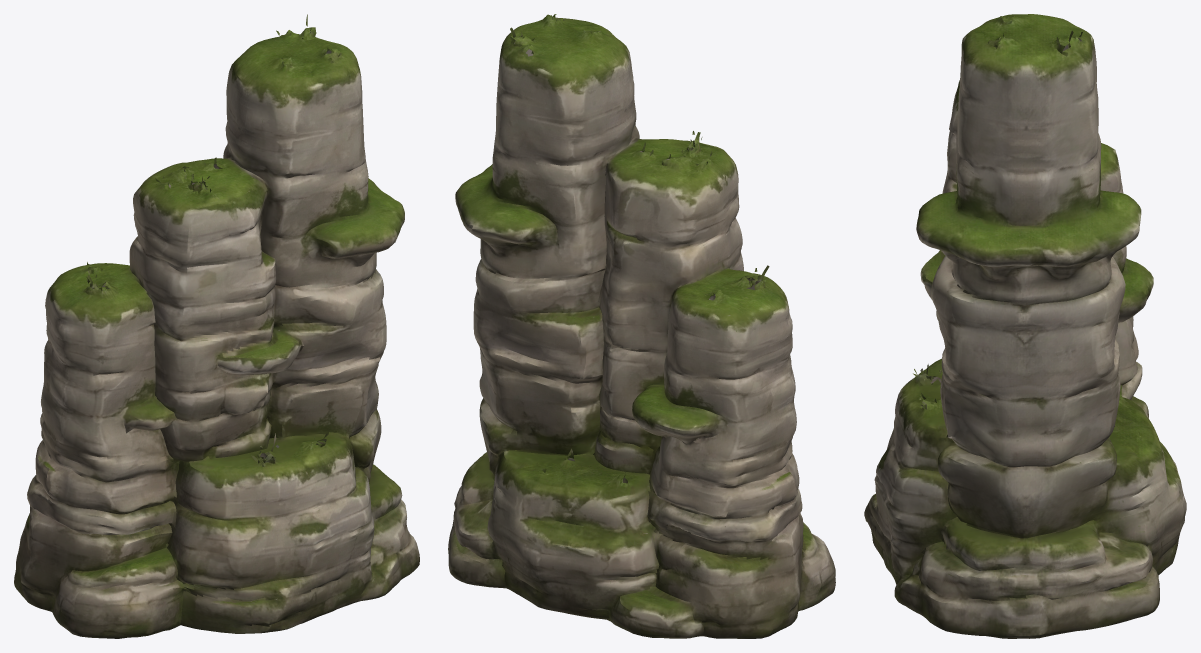
Rendered from cloudreach_strata_spire_cluster.glb.
3 views of the same model, side by side, from view 1: azimuth 30°, elevation 25°; view 2: azimuth 150°, elevation 25°; view 3: azimuth 270°, elevation 25° (orthographic). The views are drawn at different scales.
Parts seen in each view (by area): view 1: Mesh_0; view 2: Mesh_0; view 3: Mesh_0.
Boxes of the visible parts, bbox=[...] form: Mesh_0: bbox=[14, 14, 419, 638]; Mesh_0: bbox=[448, 14, 835, 638]; Mesh_0: bbox=[864, 14, 1186, 638].
Size of the model in its own units: 22.82 by 32 by 16.32.
Materials: 1 (1 with a texture image).
